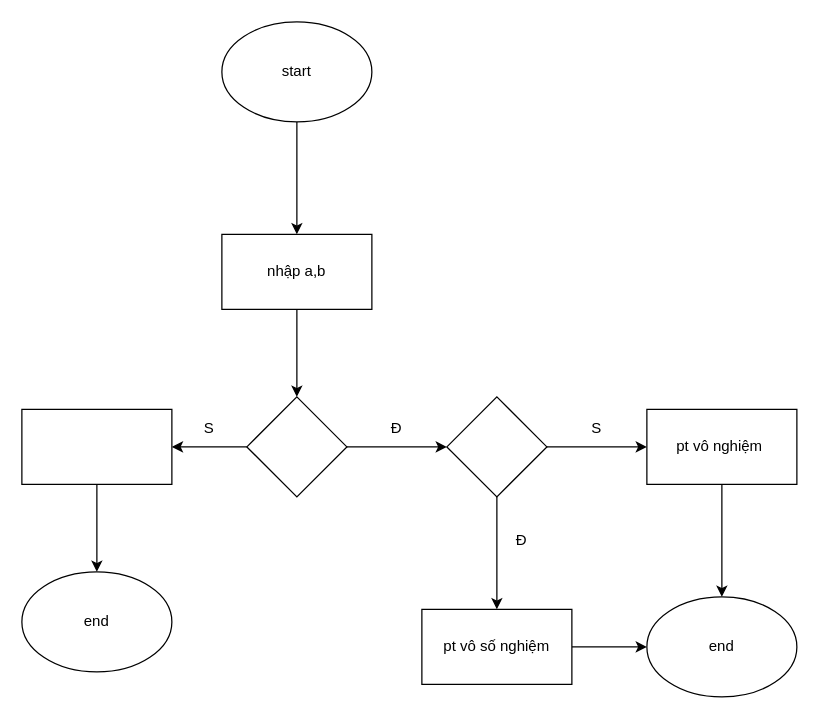
Image size: 819x719. Some labels were removed from this diagram. The shapes that lost their labels are listed below. From the top down, each one's centre as x and y in pixels, then its label:
At (96,446): "pt có nghiệm".
At (296,446): "xét a==0".
At (496,446): "xét b==0".
